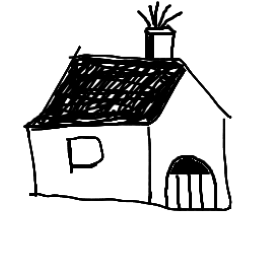door: (158, 154, 223, 214)
open_window: (55, 135, 114, 178)
shaded_roof: (23, 52, 234, 133)
smoking_chimney: (130, 0, 192, 67)
wall: (20, 105, 157, 210)
